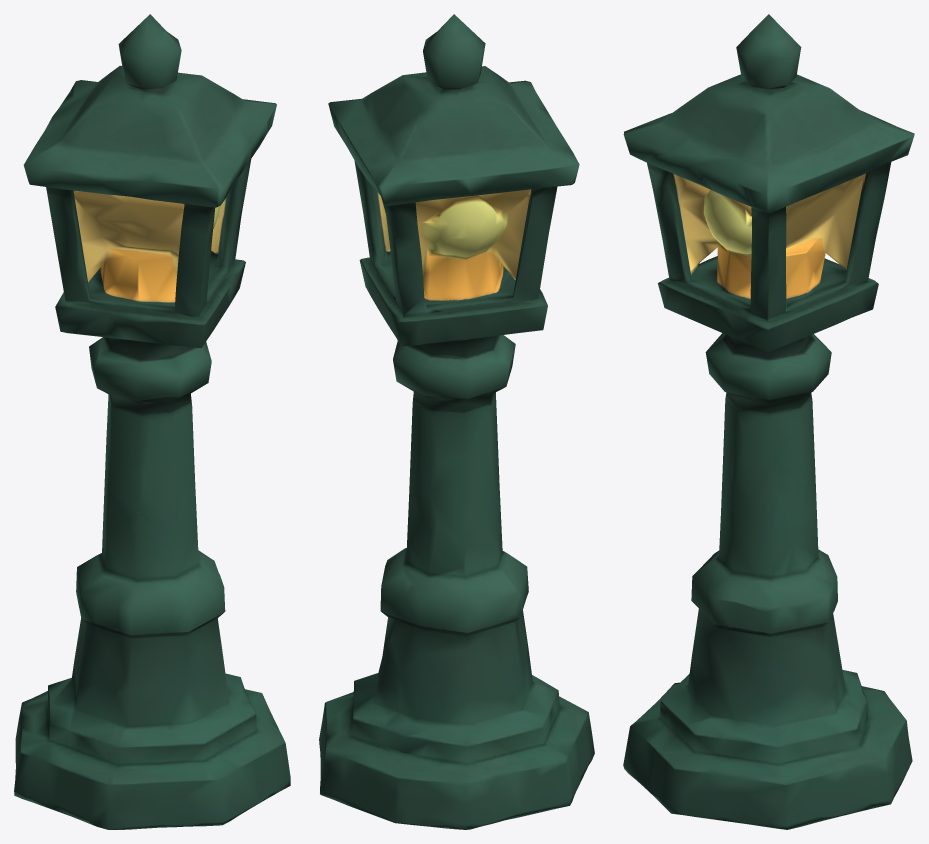
Rendered from lamp-post.glb.
3 renders of one model, left to right at view 1: azimuth 30°, elevation 25°; view 2: azimuth 150°, elevation 25°; view 3: azimuth 270°, elevation 25°, orthographic.
Visible parts, largest first — view 1: tripo_node_dc88c8b4-58e2-4a82-8a12-5087b72cec3f; view 2: tripo_node_dc88c8b4-58e2-4a82-8a12-5087b72cec3f; view 3: tripo_node_dc88c8b4-58e2-4a82-8a12-5087b72cec3f.
Part boxes in pixels (x1,y1,x2,y2): tripo_node_dc88c8b4-58e2-4a82-8a12-5087b72cec3f: [14, 14, 290, 829]; tripo_node_dc88c8b4-58e2-4a82-8a12-5087b72cec3f: [319, 14, 594, 829]; tripo_node_dc88c8b4-58e2-4a82-8a12-5087b72cec3f: [623, 14, 914, 829].
Size of the model in its own units: 0.349 by 1 by 0.3498.
Materials: 1 (1 with a texture image).
